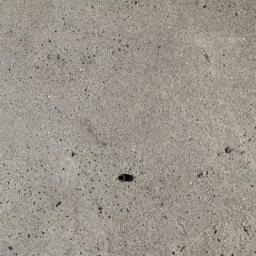FOD: (117, 171, 138, 185)
